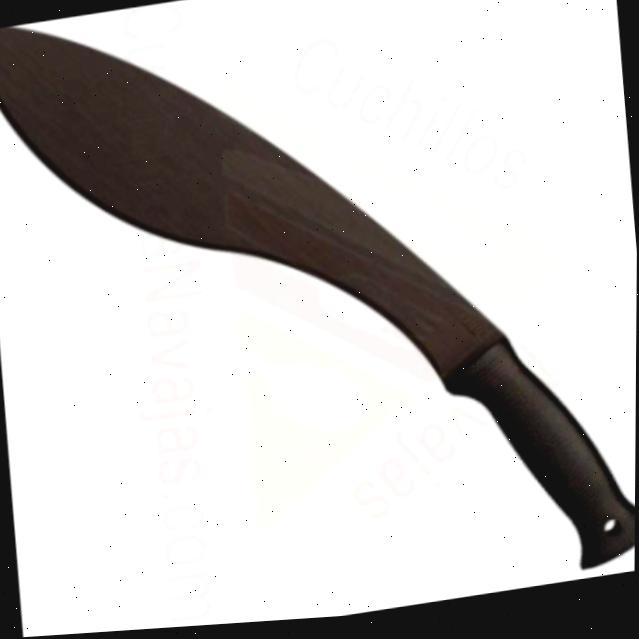long knife: (0, 0, 639, 637)
